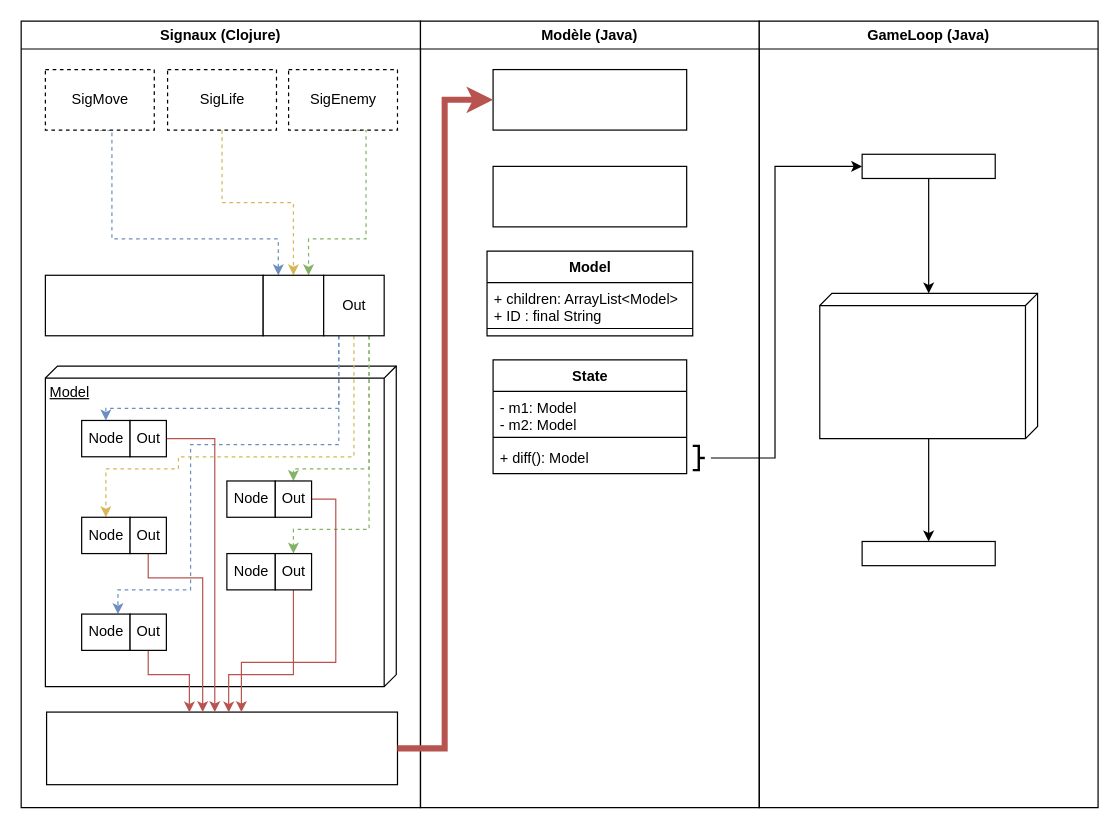
This 1119x829 diagram has some shape labels left out. Here are the shapes that lost their labels. From the top down, the centre of each, then its label:
the point at 589,99: m2: Model
the point at 928,165: changes
the point at 589,196: m1: Model
the point at 153,305: Update
the point at 293,305: In
the point at 928,365: renderLoop()
the point at 928,553: glShapes
the point at 221,748: Modifications GOM
